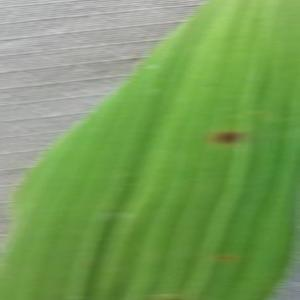Brown_Spot: (205, 118, 252, 156)
